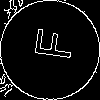F: (25, 25, 74, 62)
